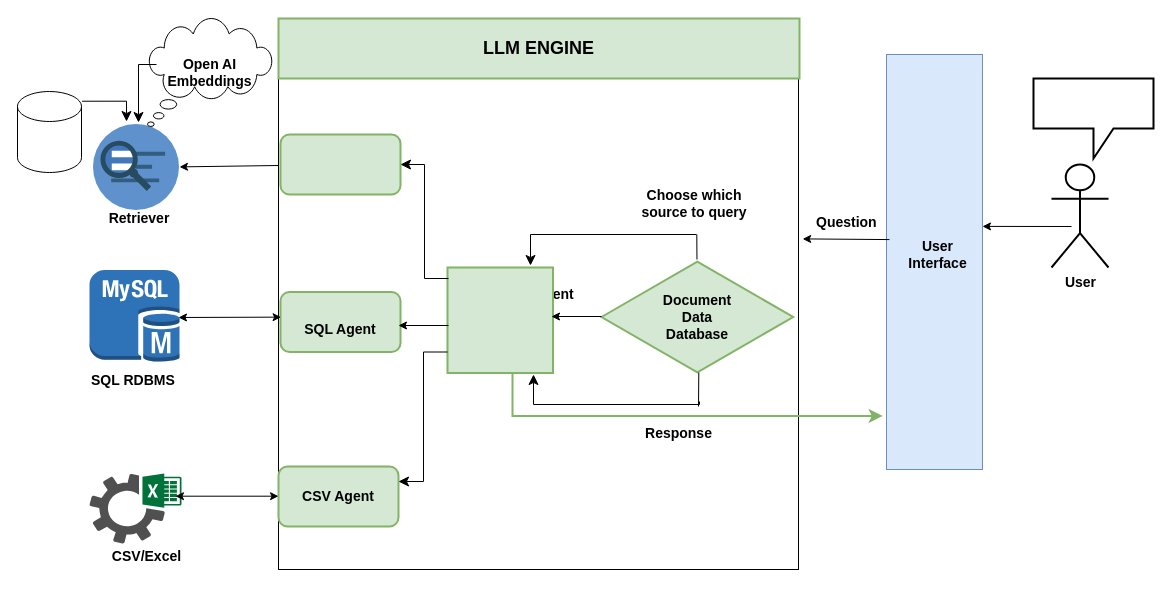
The diagram is 1172 pixels wide and 597 high, and some of its shapes have lost their labels. Here are the shapes that lost their labels. From the top down, the centre of each, then its label:
pixel 49 131: Chroma DB
pixel 1093 118: User asks a question
pixel 340 164: RetrievalAQ Chain
pixel 500 320: OpenAI GPT Models
